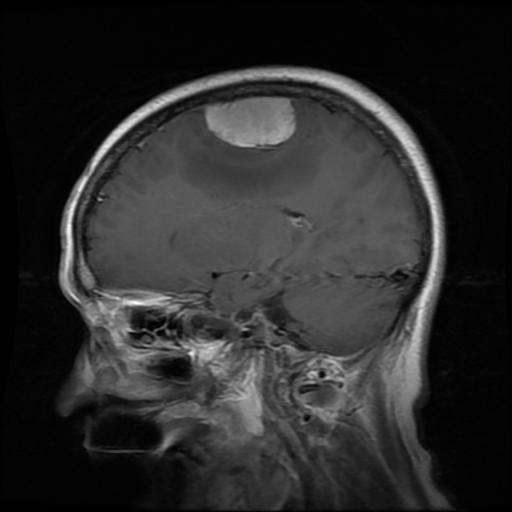Menigiomia_tumour: (201, 95, 296, 148)
